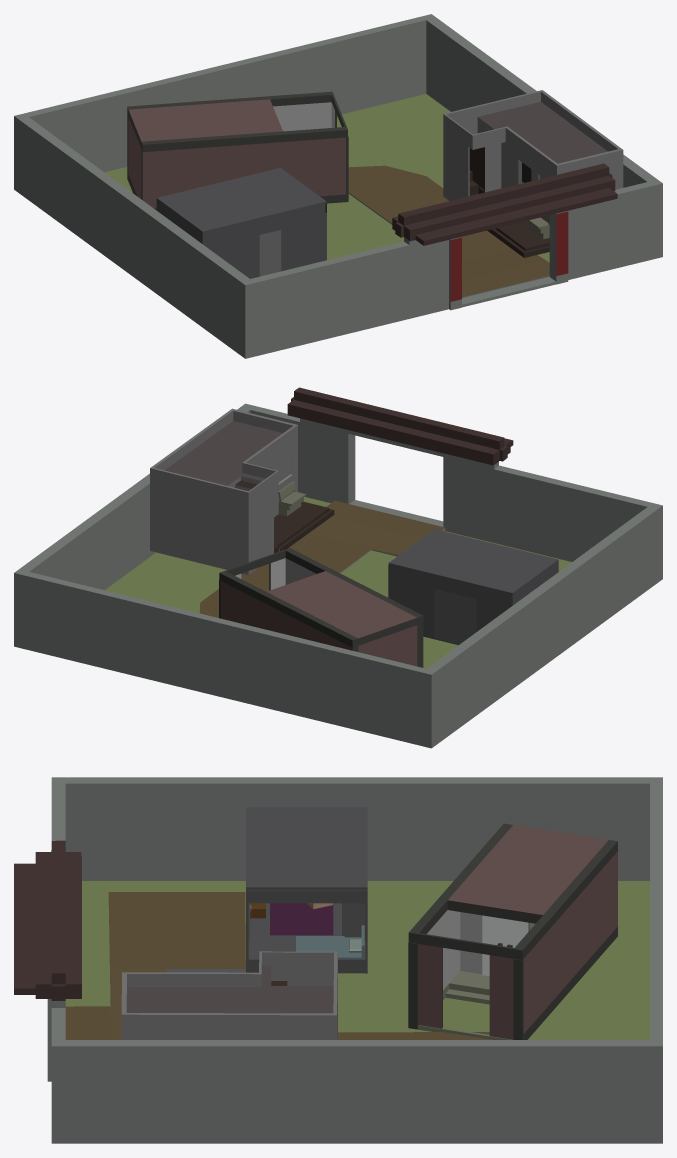
File: nainai's home.fbx
3 views of the same model, one above another, from view 1: azimuth 30°, elevation 25°; view 2: azimuth 150°, elevation 25°; view 3: azimuth 270°, elevation 25° (orthographic). The views are drawn at different scales.
Parts seen in each view (by area): view 1: 平面.001, 立方体.006, 立方体.007, Cube, 立方体.005; view 2: 平面.001, 立方体.007, 立方体.006, Cube, 立方体.001; view 3: 平面.001, 立方体.006, 立方体.007, Cube, 平面, 立方体, 立方体.001.
Part boxes in pixels (bbox=[...]): 平面.001: bbox=[14, 14, 662, 358]; 立方体.006: bbox=[127, 91, 348, 210]; 立方体.007: bbox=[443, 90, 623, 257]; Cube: bbox=[156, 167, 326, 278]; 立方体.005: bbox=[259, 229, 281, 276]; 平面.001: bbox=[14, 387, 662, 748]; 立方体.007: bbox=[150, 408, 334, 574]; 立方体.006: bbox=[219, 548, 423, 667]; Cube: bbox=[388, 529, 558, 645]; 立方体.001: bbox=[434, 589, 476, 644]; 平面.001: bbox=[14, 777, 662, 1143]; 立方体.006: bbox=[408, 823, 617, 1039]; 立方体.007: bbox=[121, 951, 337, 1039]; Cube: bbox=[246, 807, 367, 973]; 平面: bbox=[270, 903, 333, 935]; 立方体: bbox=[296, 925, 364, 958]; 立方体.001: bbox=[342, 903, 365, 940].
Size of the model in its own units: 33306 by 7880 by 33938.
